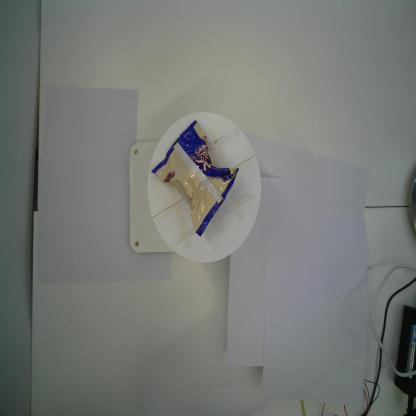Dessert: (150, 118, 240, 238)
